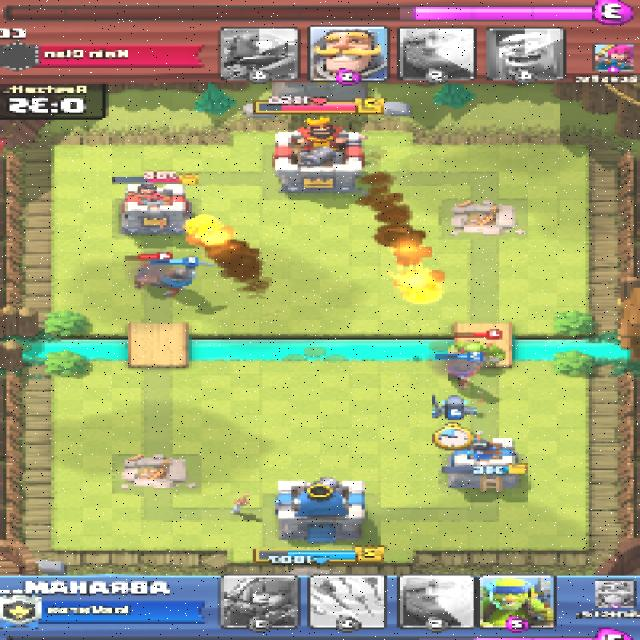Enemy-Fireball: (392, 265, 449, 303)
Enemy-Musketeer: (131, 255, 171, 288)
Player-Fireball: (182, 217, 240, 247)
Player-GoblinCage: (446, 340, 508, 367)
Player-Knight: (159, 264, 202, 294)
Player-MiniPEKKA: (427, 396, 480, 422)
Player-Musketeer: (443, 357, 487, 382)
